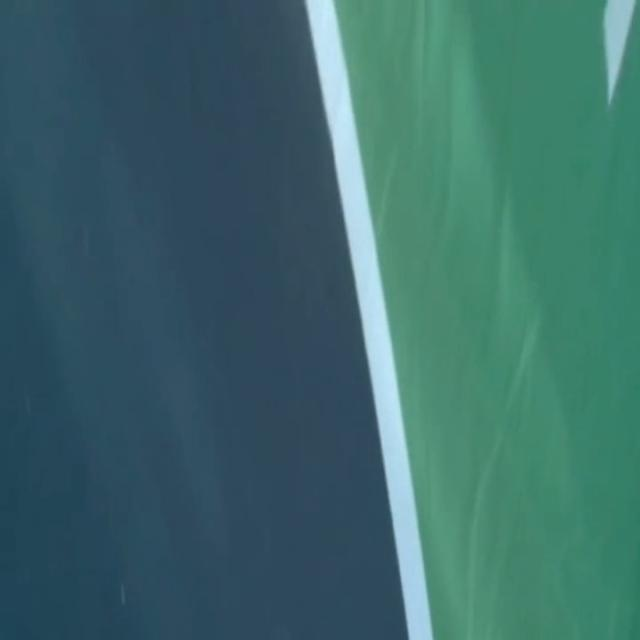right: (305, 0, 432, 639)
